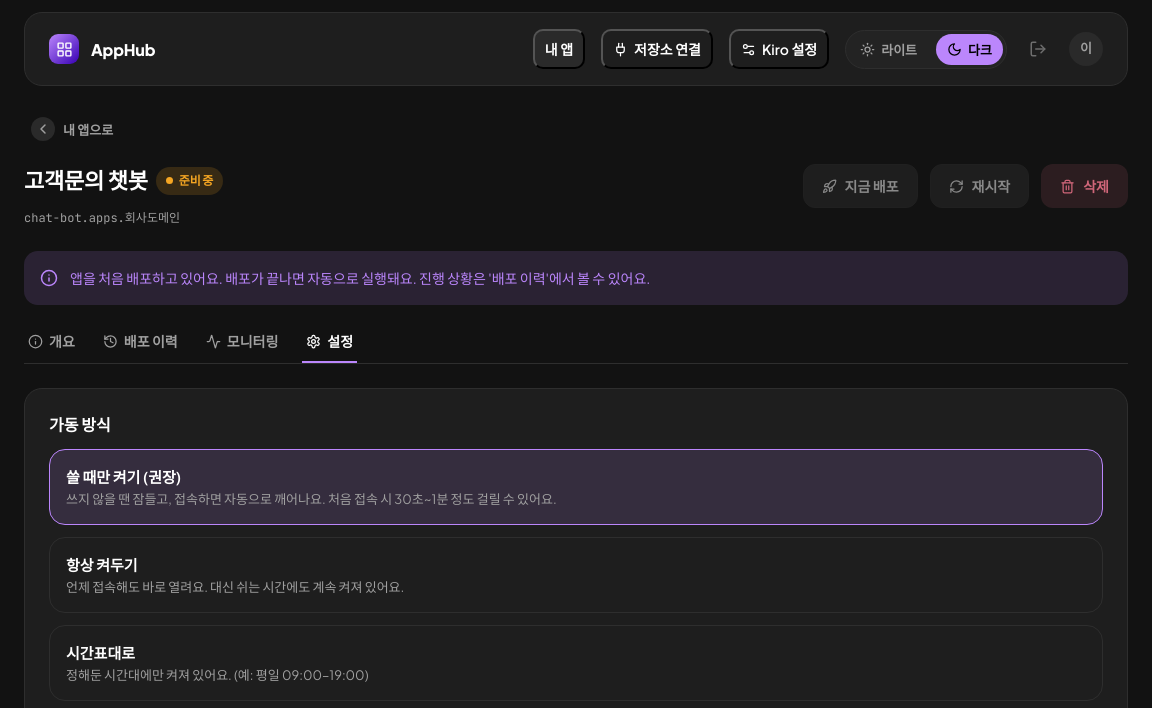
Test: D8 비밀값 변경 시 확인 후 재배포 › 모달에서 취소하면 PATCH 를 보내지 않고 모달이 닫힌다
Expected: the heading "고객문의 챗봇 준비 중" is shown, [24,164,223,197]
Click the tab "설정" at (330, 342), box [302,321,357,363]
(page scrolled)
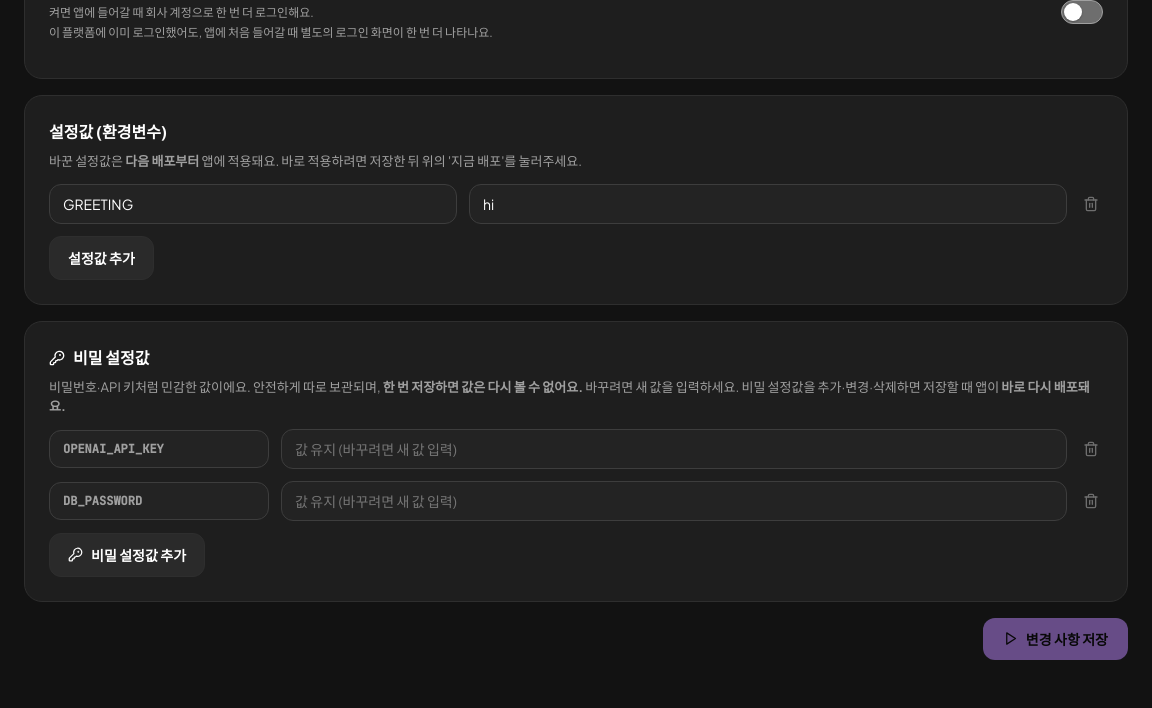
Expected: the heading "비밀 설정값" is shown, [49,347,150,368]
Type "sk-new" into the 1st password field with placeholder "값 유지 (바꾸려면 새 값 입력)" at (674, 449), box [281,429,1067,469]
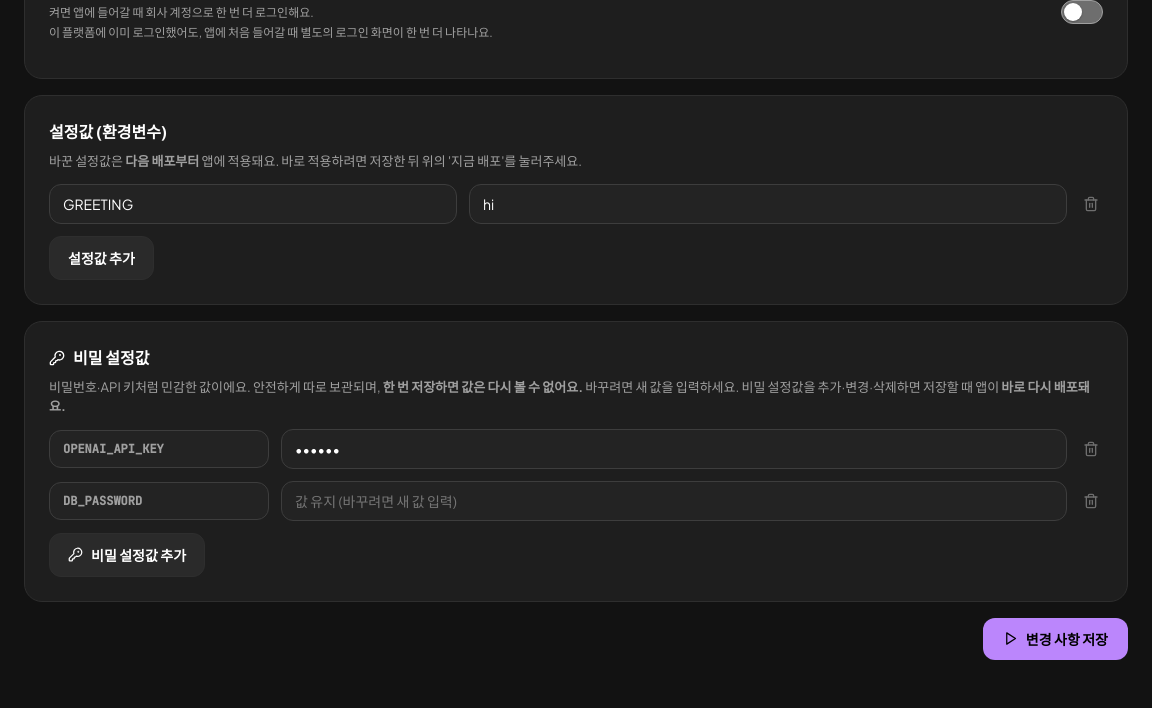
Click the button "변경 사항 저장" at (1055, 639), box [983,618,1128,660]
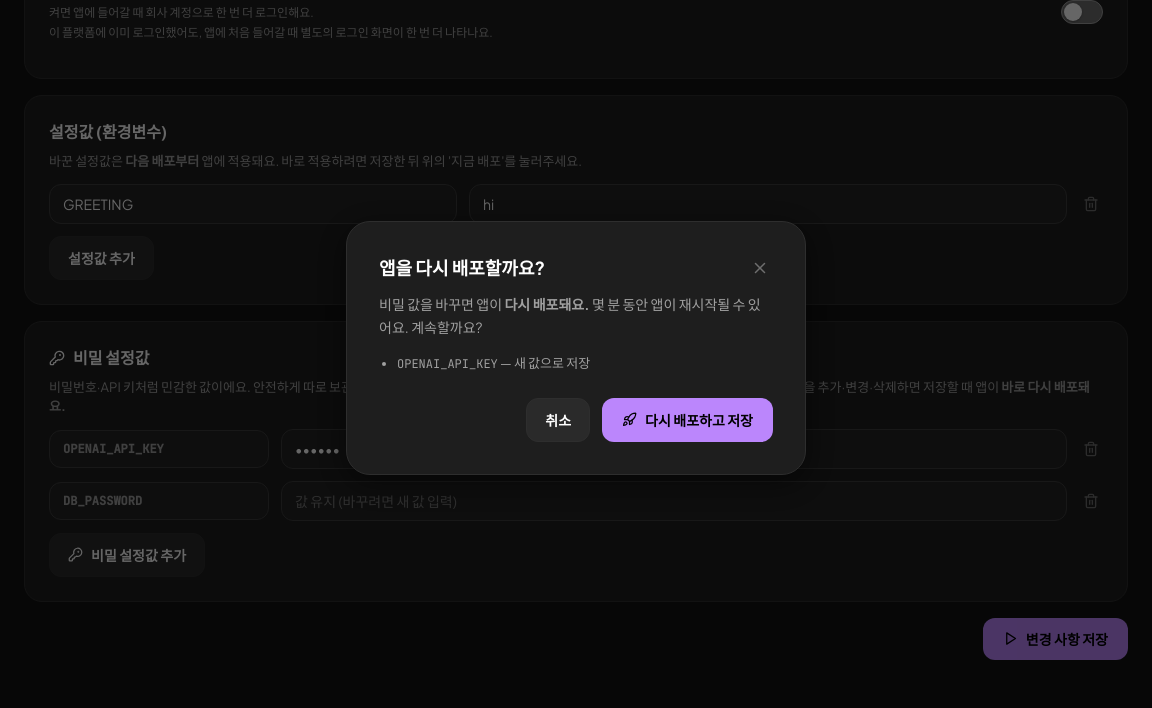
Click the button "취소" at (558, 420), box [526,398,590,442]
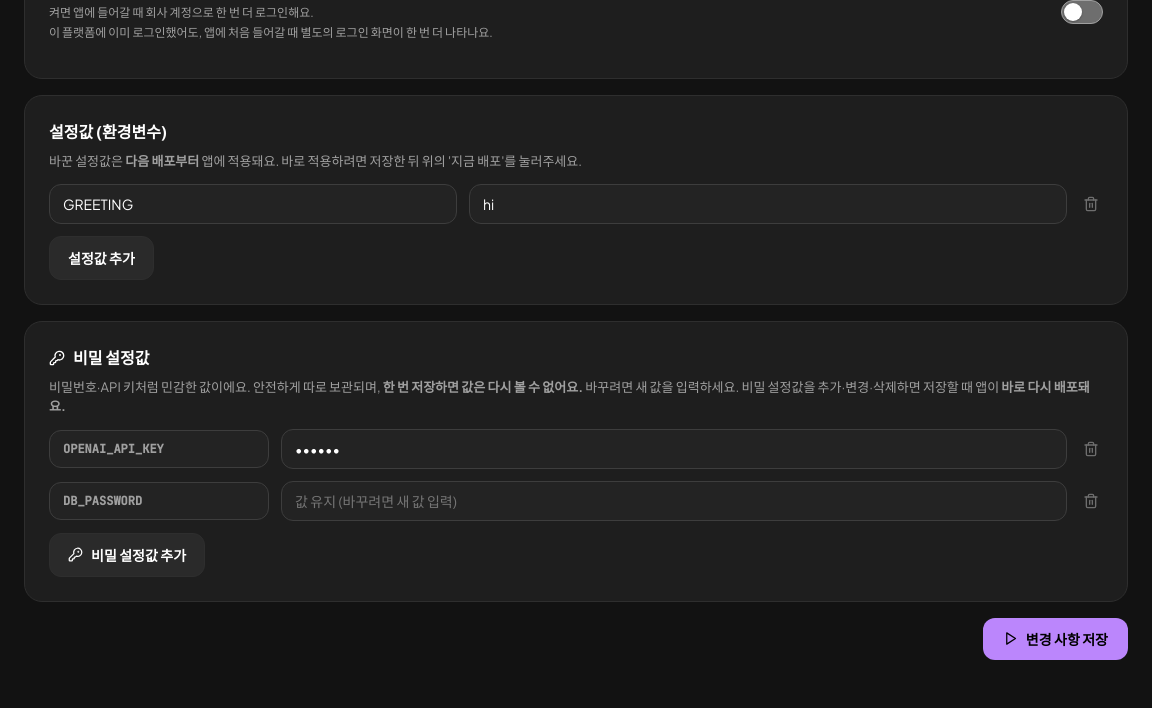
Expected: the dialog is gone
